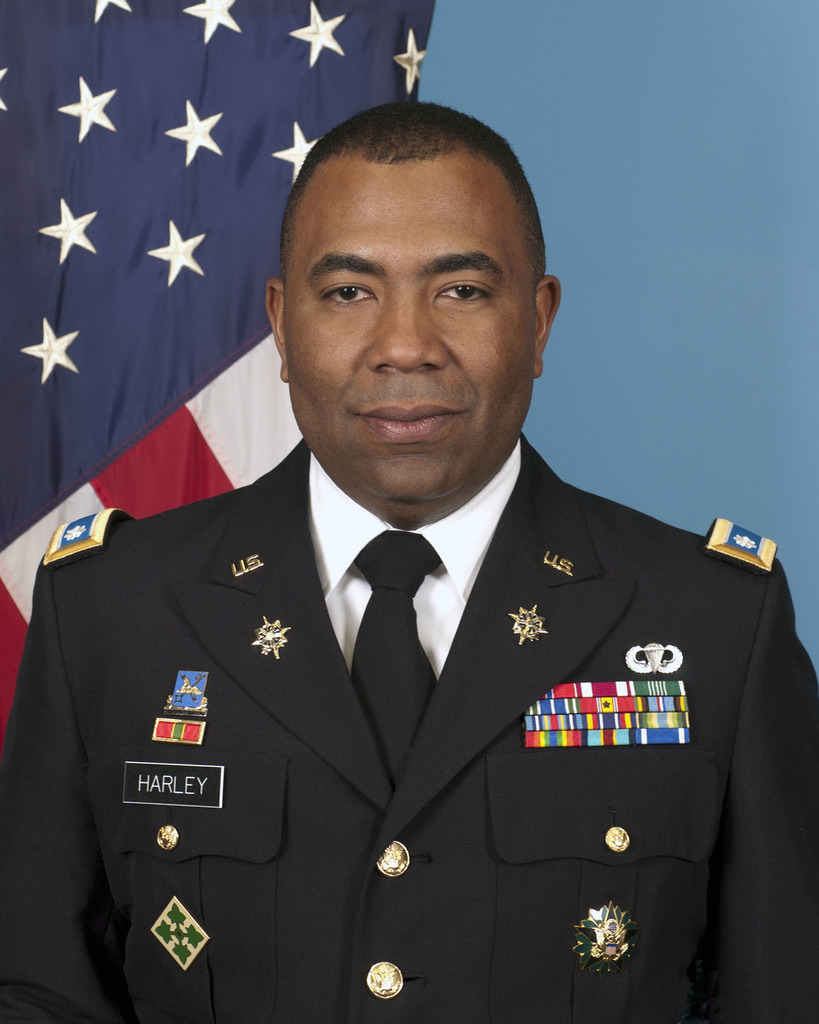Person: (0, 97, 819, 1024)
